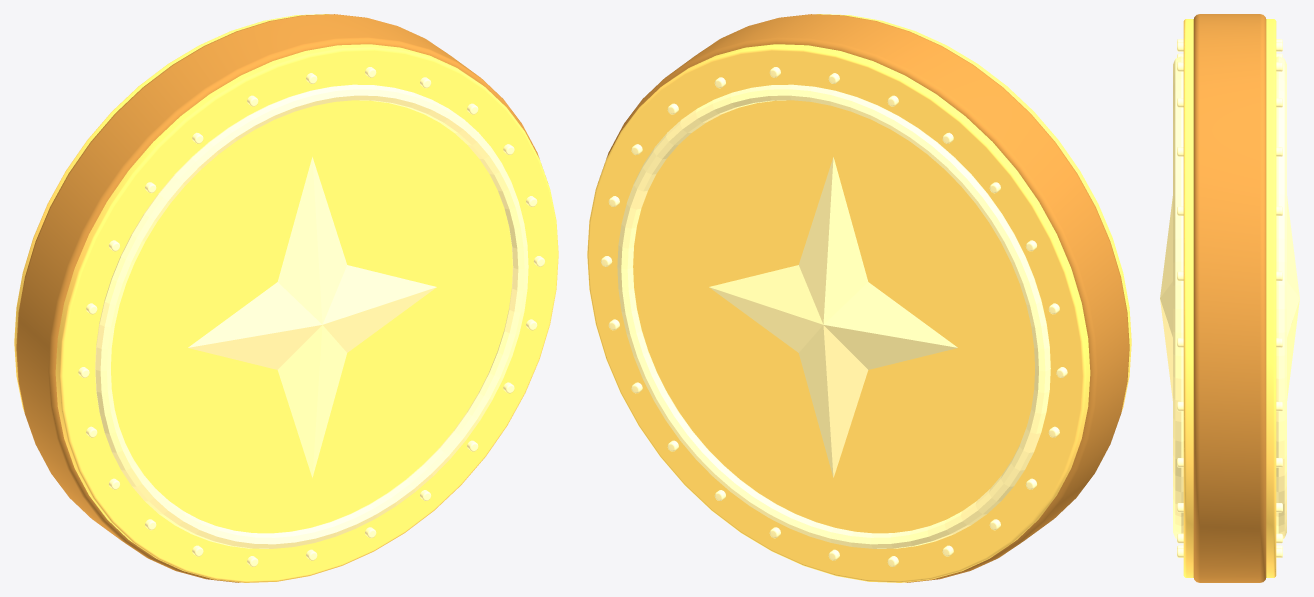
Rendered from shop-coin.glb.
3 views of the same model, side by side, from view 1: azimuth 30°, elevation 25°; view 2: azimuth 150°, elevation 25°; view 3: azimuth 270°, elevation 25° (orthographic). The views are drawn at different scales.
Visible parts, largest first — view 1: Coin rim; view 2: Coin rim; view 3: Coin rim.
Boxes of the visible parts, x1,y1,x2,y2 form: Coin rim: (14,14,558,582); Coin rim: (587,14,1131,582); Coin rim: (1160,14,1299,582).
Bounding box in the file's own units: 0.35 × 0.35 × 0.086.
